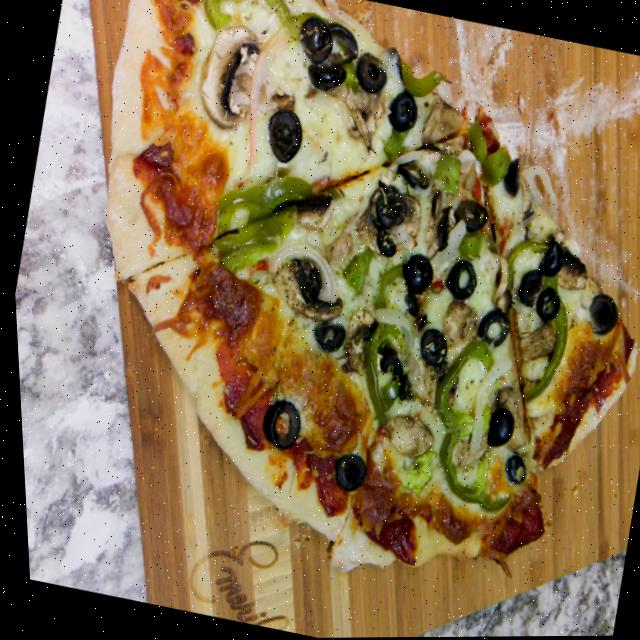black_olives: (285, 14, 366, 98), (360, 185, 410, 262), (257, 104, 308, 169), (253, 395, 305, 455), (392, 253, 437, 316), (407, 325, 451, 381), (380, 85, 422, 140), (322, 449, 369, 497), (349, 49, 393, 99), (475, 407, 517, 455), (578, 291, 619, 338), (436, 257, 476, 304), (469, 307, 512, 350), (446, 194, 490, 235), (388, 155, 430, 195), (508, 266, 544, 311), (306, 317, 346, 355), (530, 238, 565, 281), (530, 283, 563, 323), (494, 450, 527, 489), (495, 158, 522, 199)
mushrooms: (186, 16, 273, 136), (263, 254, 347, 328), (332, 88, 393, 155), (371, 407, 439, 462), (334, 297, 384, 370), (416, 103, 471, 157), (415, 195, 459, 261), (506, 314, 558, 369), (283, 185, 334, 237), (432, 294, 478, 350), (480, 247, 519, 313), (438, 426, 487, 476), (550, 247, 589, 299), (391, 197, 427, 243), (489, 374, 529, 414), (349, 208, 388, 249)
pizza: (18, 0, 640, 623)
